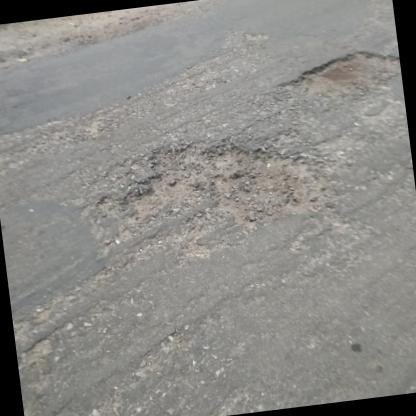pothole: (88, 121, 326, 244), (274, 44, 402, 106)
